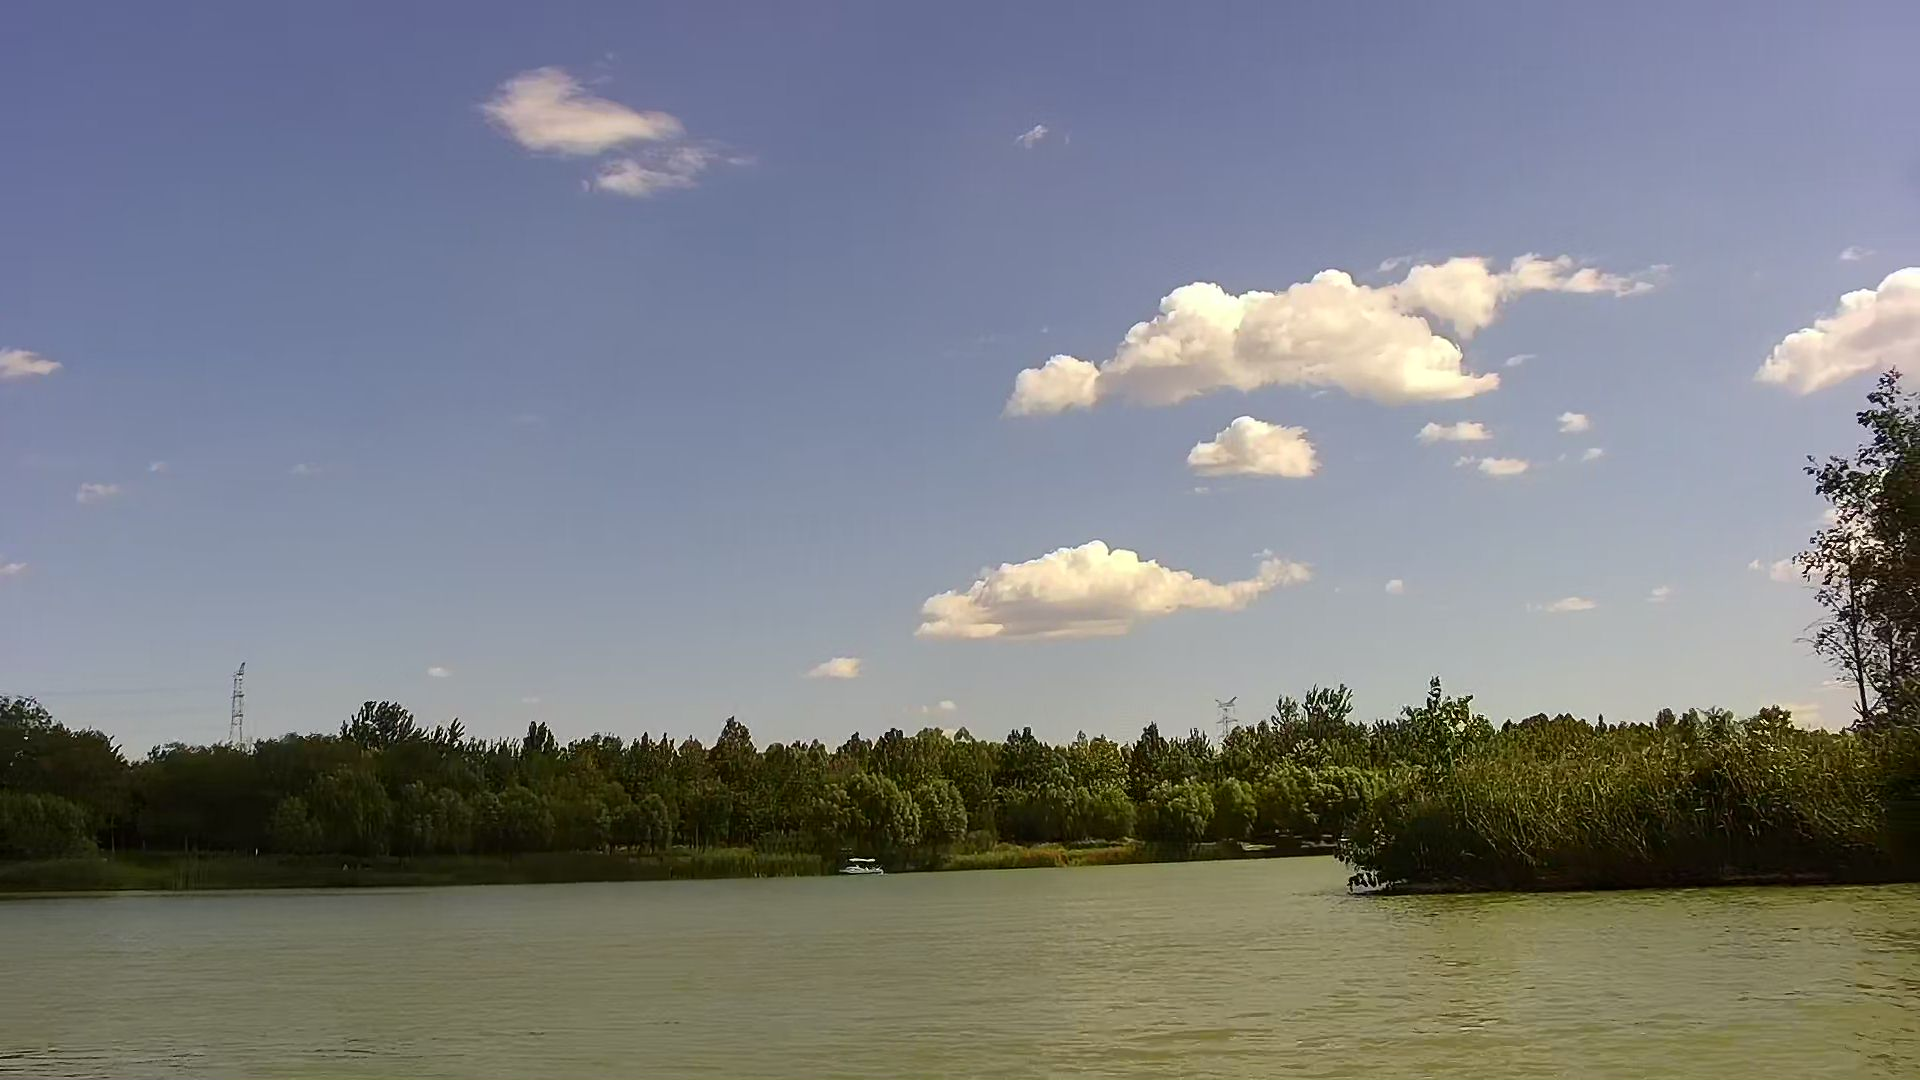boat: (840, 853, 881, 884)
